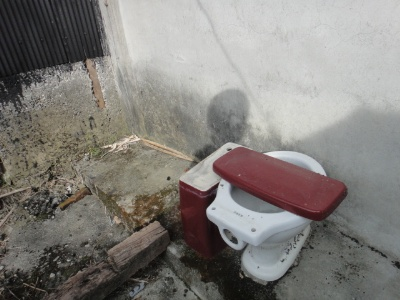toilet: (176, 139, 349, 285)
